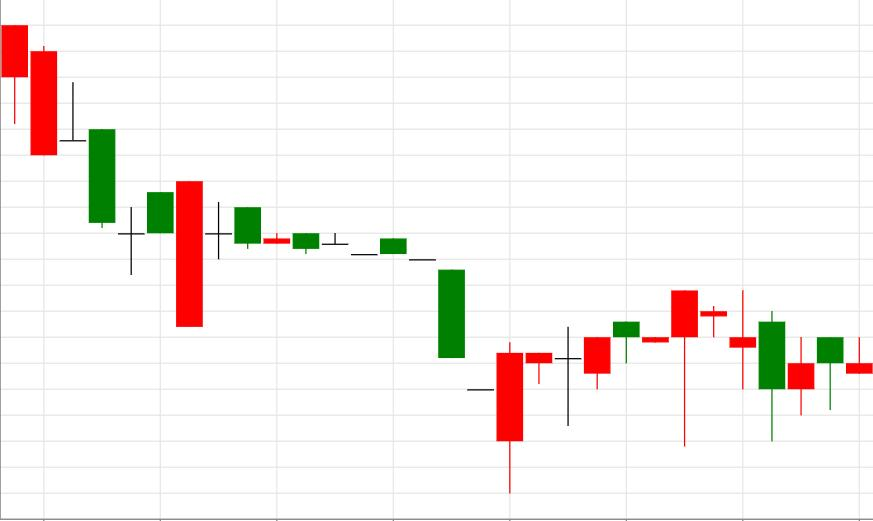bullish_engulfing_rise: (0, 25, 202, 328)
hanging_man_fall: (497, 291, 698, 494)
